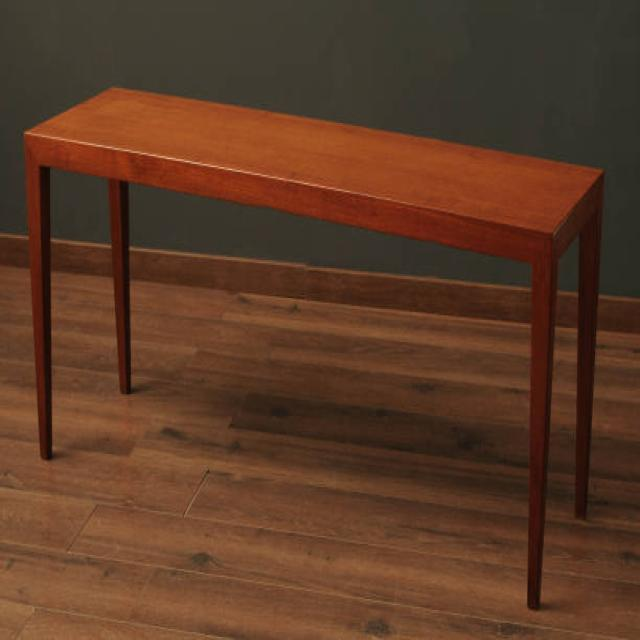table: (22, 84, 604, 608)
